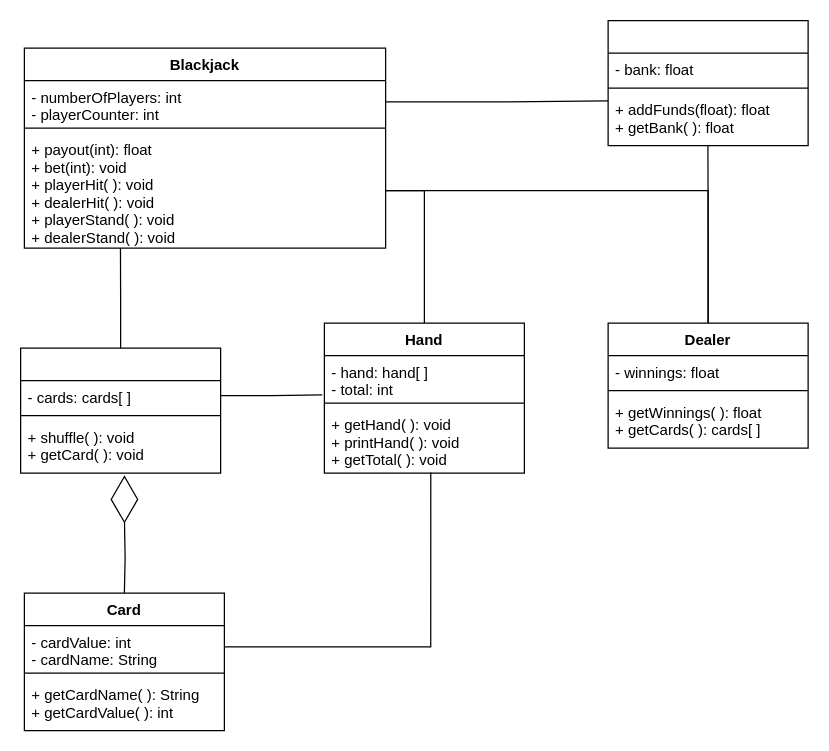
Image size: 829x751. Some labels were removed from this diagram. The shapes that lost their labels are listed below. From the top down, each one's box as (x1, y1, x2, y2) in pixels, then its label:
(607, 19, 808, 146): Player
(19, 347, 221, 473): Deck
